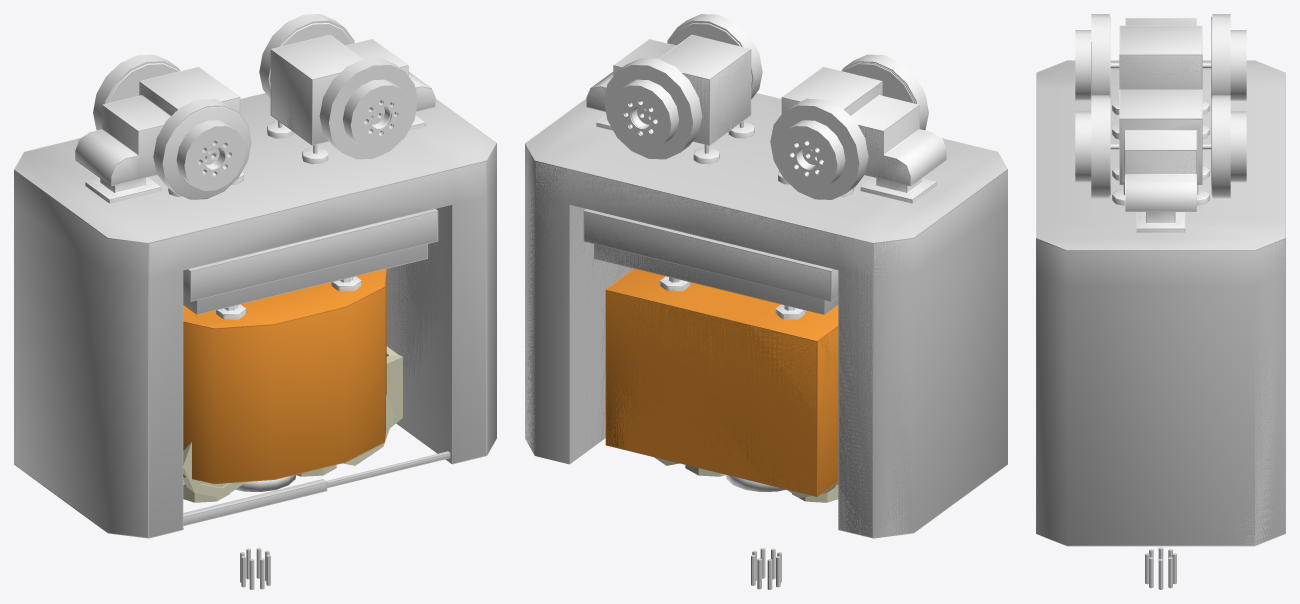
Rendered from oht_model.fbx.
3 views of the same model, side by side, from view 1: azimuth 30°, elevation 25°; view 2: azimuth 150°, elevation 25°; view 3: azimuth 270°, elevation 25° (orthographic).
Visible parts, largest first — view 1: oht, Cylinder.013, oht.001, oht.002, Cylinder.012, Cylinder.001, Cylinder.002, Cylinder.004; view 2: oht.001, oht.002, Cylinder.013, oht, Cylinder.004; view 3: Cylinder.013, oht, oht.002, oht.001, Cylinder.004.
Boxes of the visible parts, bbox=[...] form: oht: bbox=[14, 23, 496, 537]; Cylinder.013: bbox=[14, 23, 496, 537]; oht.001: bbox=[14, 14, 496, 538]; oht.002: bbox=[75, 59, 451, 496]; Cylinder.012: bbox=[163, 106, 250, 199]; Cylinder.001: bbox=[183, 346, 402, 502]; Cylinder.002: bbox=[183, 395, 394, 498]; Cylinder.004: bbox=[240, 548, 270, 589]; oht.001: bbox=[525, 14, 1007, 538]; oht.002: bbox=[525, 52, 970, 537]; Cylinder.013: bbox=[525, 23, 1007, 534]; oht: bbox=[604, 24, 1007, 505]; Cylinder.004: bbox=[751, 548, 781, 589]; Cylinder.013: bbox=[1036, 17, 1285, 545]; oht: bbox=[1036, 26, 1285, 545]; oht.002: bbox=[1037, 55, 1285, 545]; oht.001: bbox=[1036, 14, 1285, 546]; Cylinder.004: bbox=[1145, 547, 1176, 589].
Bounding box in the file's own units: 125 × 161 × 69.76.
